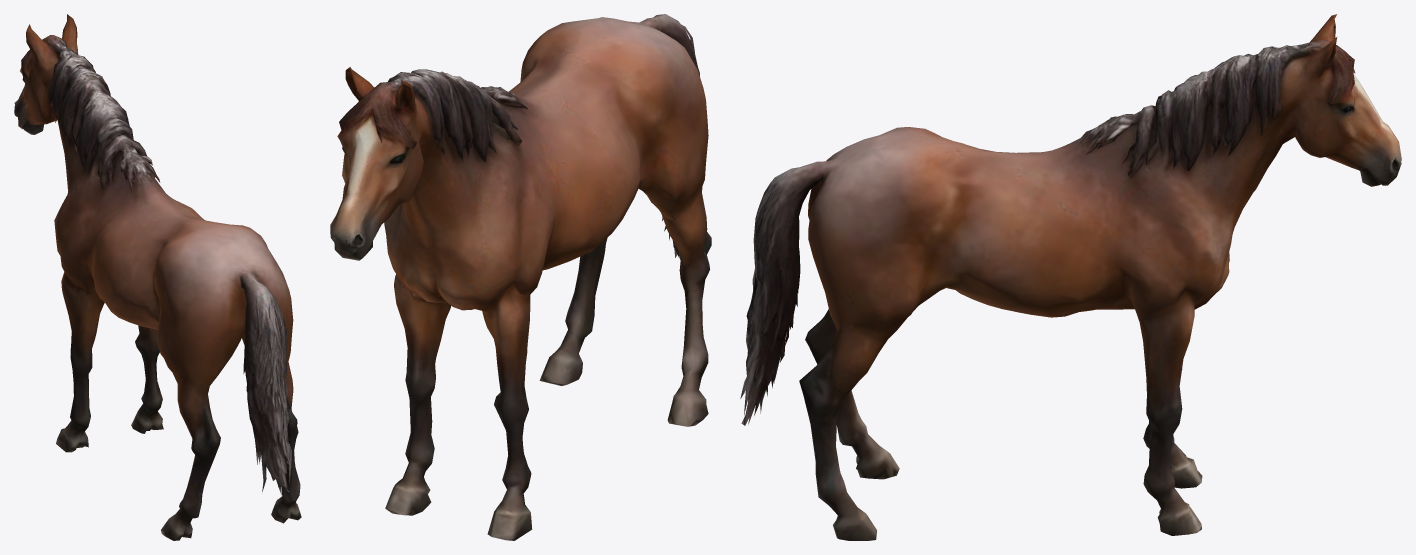
The model's file is pferd.glb.
3 renders of one model, left to right at view 1: azimuth 30°, elevation 25°; view 2: azimuth 150°, elevation 25°; view 3: azimuth 270°, elevation 25°, orthographic. The views are drawn at different scales.
Visible parts, largest first — view 1: tripo_node_c6e94343-2c1c-474d-9dd3-ad46930afb98; view 2: tripo_node_c6e94343-2c1c-474d-9dd3-ad46930afb98; view 3: tripo_node_c6e94343-2c1c-474d-9dd3-ad46930afb98.
Boxes of the visible parts, box(x1,y1,x2,y2) form: tripo_node_c6e94343-2c1c-474d-9dd3-ad46930afb98: box(14, 14, 301, 540); tripo_node_c6e94343-2c1c-474d-9dd3-ad46930afb98: box(330, 14, 711, 540); tripo_node_c6e94343-2c1c-474d-9dd3-ad46930afb98: box(740, 14, 1401, 540).
Size of the model in its own units: 0.2757 by 0.801 by 1.
Materials: 1 (1 with a texture image).
